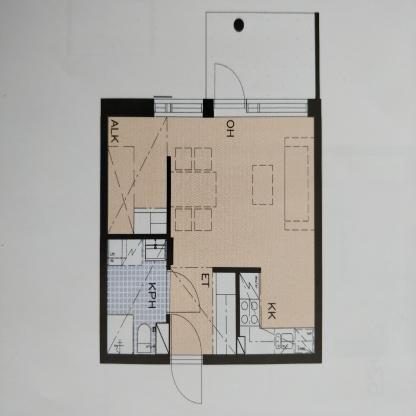door: (168, 311, 209, 406), (166, 268, 201, 318), (214, 62, 244, 113)
window: (154, 98, 204, 119), (243, 99, 306, 115)
zone: (170, 117, 315, 354), (206, 13, 316, 99), (107, 116, 170, 235), (107, 238, 168, 356)
